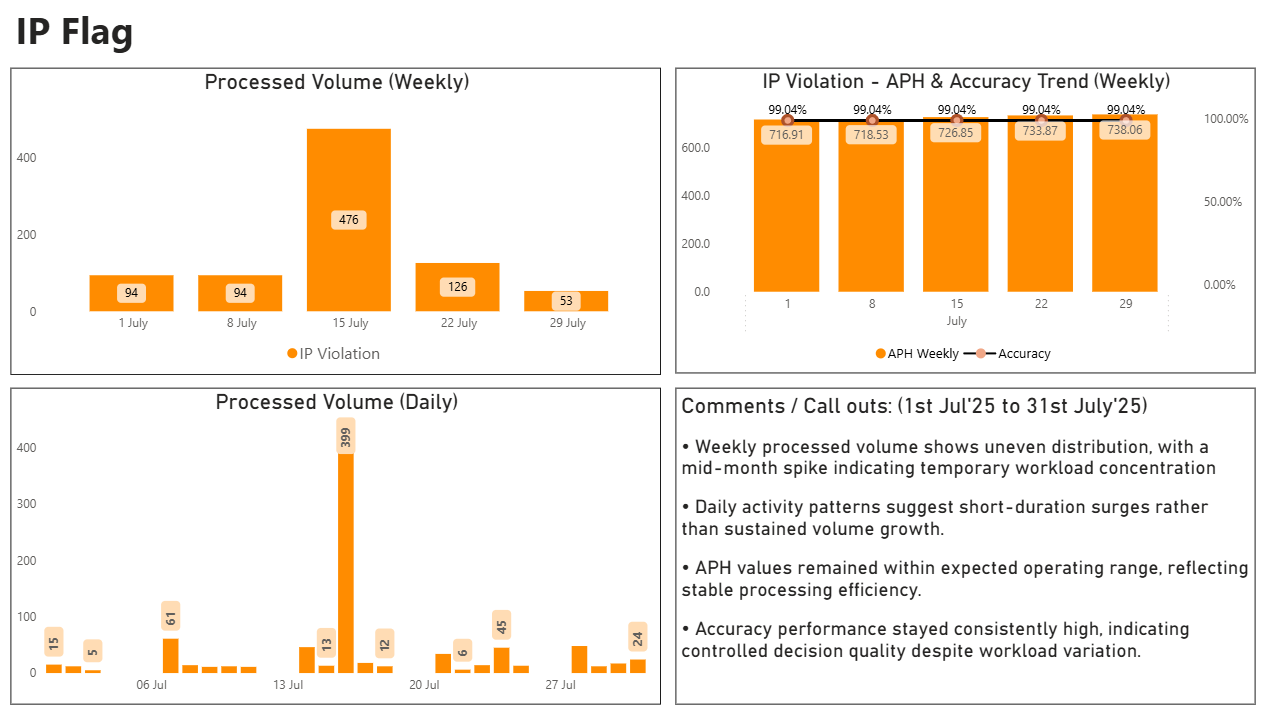

Layout of this report page (visuals, bound fields, positions):
{"tool":"powerbi","page":{"name":"IP Flag","canvas":[1280,720],"ordinal":0},"visuals":[{"type":"clusteredColumnChart","title":"Processed Volume (Weekly)","fields":{"Series":["Sheet1.Source"],"Y":["CountNonNull(Sheet1.Product ID)"],"Category":["Sheet1.Week Start (Custom)","Sheet1.Week Start (Custom).Variation.Date Hierarchy.Year","Sheet1.Week Start (Custom).Variation.Date Hierarchy.Quarter","Sheet1.Week Start (Custom).Variation.Date Hierarchy.Month","Sheet1.Week Start (Custom).Variation.Date Hierarchy.Day"]},"box":[17.1,68.5,650.5,306.9],"z":0},{"type":"clusteredColumnChart","title":"Processed Volume (Daily)","fields":{"Series":["Sheet1.Source"],"Category":["Sheet1.Date"],"Y":["Sheet1.Processed (Distinct Pids)"]},"box":[17.1,388.9,650.5,316.7],"z":1000},{"type":"textbox","box":[17.1,0,327.7,67.3],"z":2000},{"type":"lineClusteredColumnComboChart","title":"IP Violation - APH & Accuracy Trend (Weekly)","fields":{"Y":["Sheet1.APH Weekly"],"Category":["Sheet1.Week Start (Custom).Variation.Date Hierarchy.Month","Sheet1.Week Start (Custom).Variation.Date Hierarchy.Day"],"Y2":["Sheet1.Avg Accuracy %"]},"box":[682.3,68.5,579.6,305.7],"z":3000},{"type":"textbox","box":[682.3,530.7,579.6,174.9],"z":4000},{"type":"textbox","box":[682,389,580,317],"z":5000}]}

Visuals, with their boxes in screenshot pixels (x1, y1, x2, y2), scaled from the page's 1280x720 canvas onto the 1261x710 screenshot:
"Processed Volume (Weekly)" clusteredColumnChart: bbox=[17, 68, 658, 370]
"Processed Volume (Daily)" clusteredColumnChart: bbox=[17, 383, 658, 696]
textbox: bbox=[17, 0, 340, 66]
"IP Violation - APH & Accuracy Trend (Weekly)" lineClusteredColumnComboChart: bbox=[672, 68, 1243, 369]
textbox: bbox=[672, 523, 1243, 696]
textbox: bbox=[672, 384, 1243, 696]
